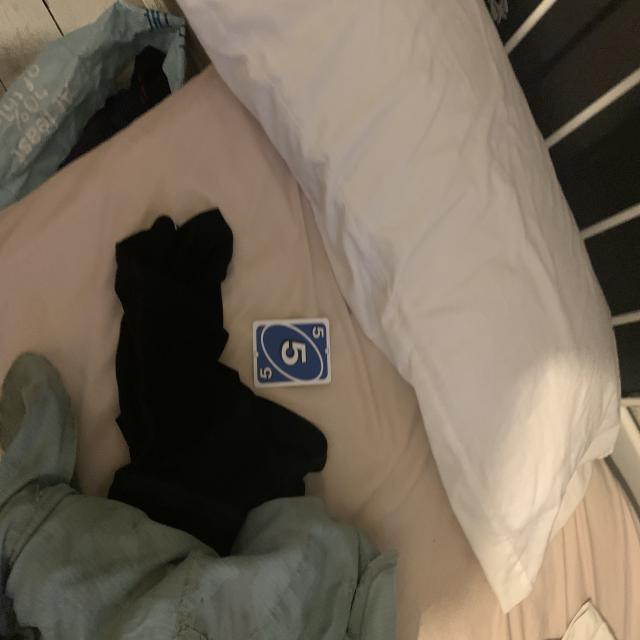lblue-5: (307, 324, 328, 342)
